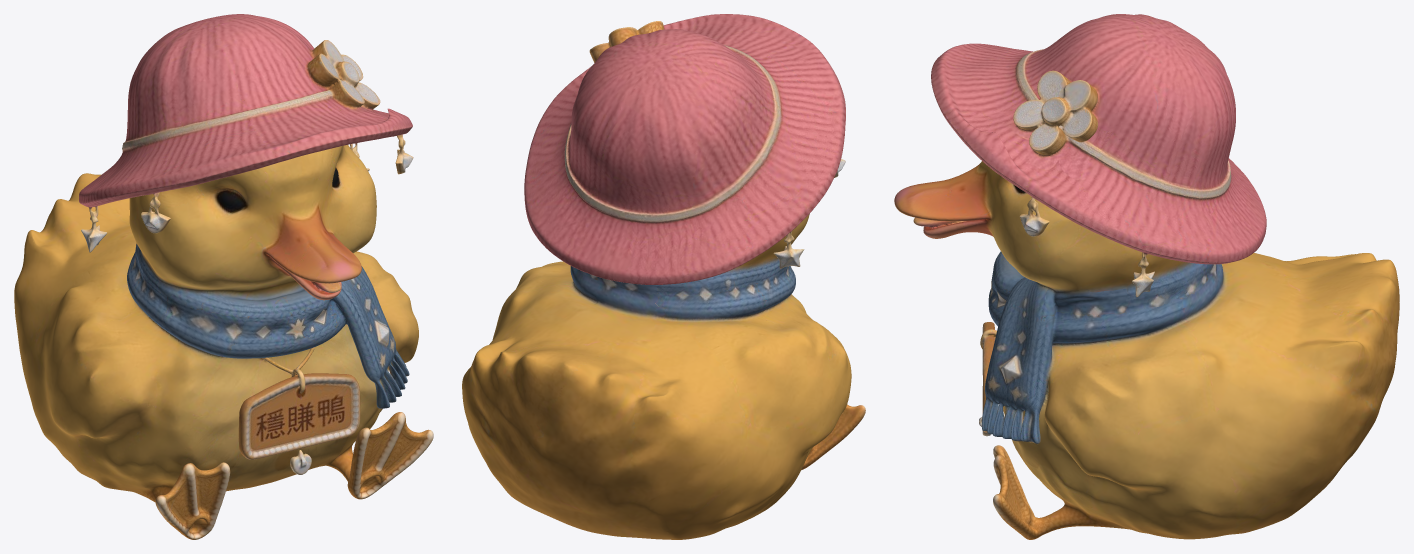
The model's file is duck.glb.
The picture shows the model from 3 angles, left to right: view 1: azimuth 30°, elevation 25°; view 2: azimuth 150°, elevation 25°; view 3: azimuth 270°, elevation 25°; orthographic projection. The views are drawn at different scales.
Bounding box in the file's own units: 1.45 × 1.9 × 1.84.
1 material, 1 textured.
